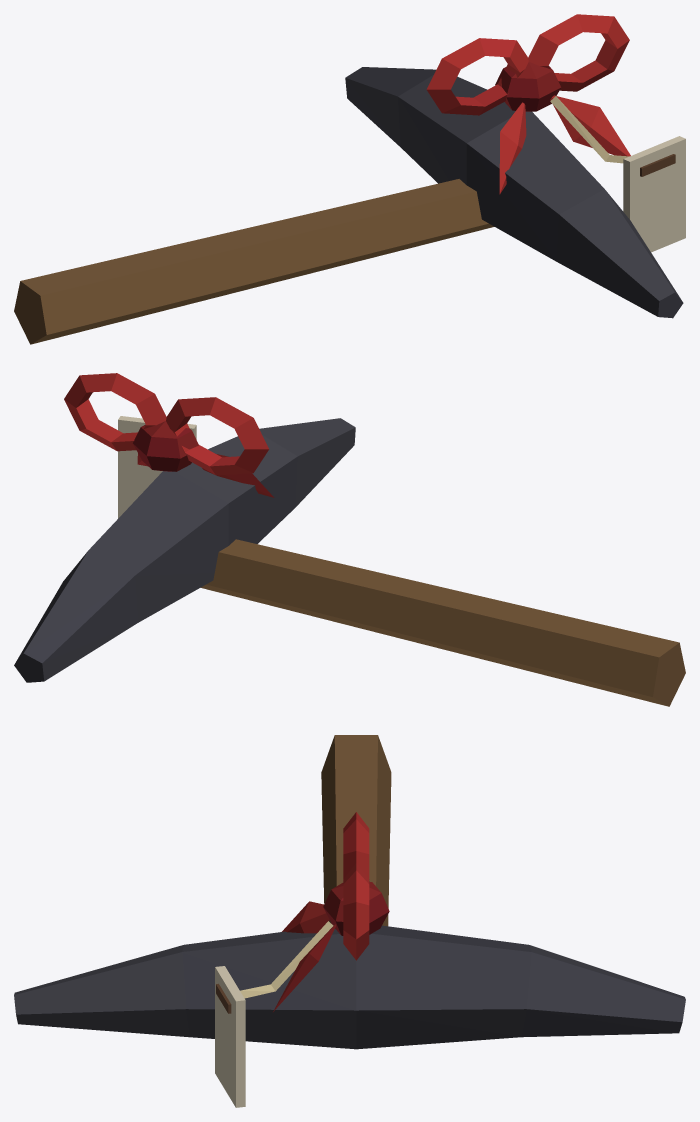
Rendered from quest_pickaxe.glb.
3 views of the same model, one above another, from view 1: azimuth 30°, elevation 25°; view 2: azimuth 150°, elevation 25°; view 3: azimuth 270°, elevation 25° (orthographic). The views are drawn at different scales.
Visible parts, largest first — view 1: quest_pickaxe; view 2: quest_pickaxe; view 3: quest_pickaxe.
Part boxes in pixels (x1=…): quest_pickaxe: x1=14, y1=14, x2=685, y2=344; quest_pickaxe: x1=14, y1=373, x2=685, y2=706; quest_pickaxe: x1=14, y1=735, x2=685, y2=1107.
Bounding box in the file's own units: 0.4421 × 0.1389 × 0.4.
